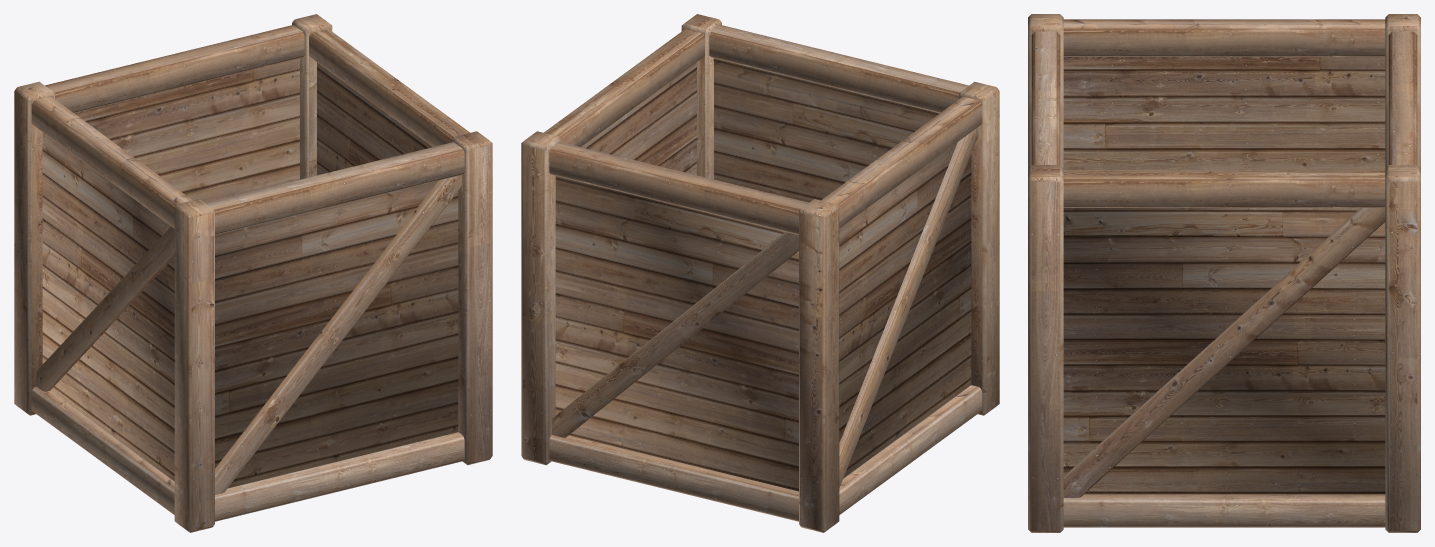
The model's file is crate.fbx.
3 renders of one model, left to right at view 1: azimuth 30°, elevation 25°; view 2: azimuth 150°, elevation 25°; view 3: azimuth 270°, elevation 25°, orthographic. The views are drawn at different scales.
Parts seen in each view (by area): view 1: WoodenBox; view 2: WoodenBox; view 3: WoodenBox.
Boxes of the visible parts, left/top/right/bottom form: WoodenBox: left=14, top=14, right=492, bottom=532; WoodenBox: left=521, top=14, right=999, bottom=532; WoodenBox: left=1028, top=14, right=1420, bottom=532.
Bounding box in the file's own units: 39.37 × 39.37 × 39.37.
